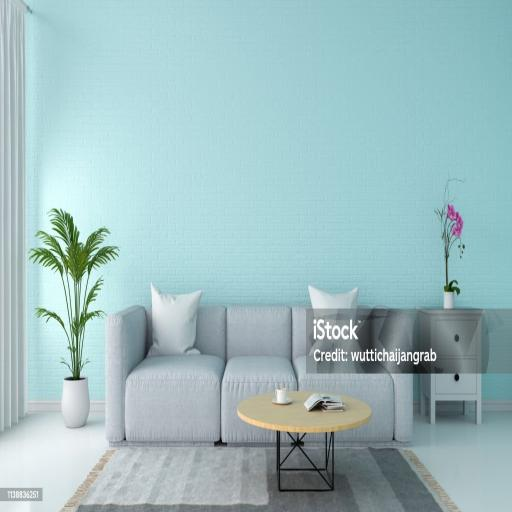back_cushion: (194, 306, 312, 360)
left_arm: (382, 361, 413, 441), (372, 309, 416, 354)
right_arm: (106, 306, 146, 441)
seat_cushion: (122, 355, 412, 443)
stallion-sofa: (106, 285, 413, 444)
